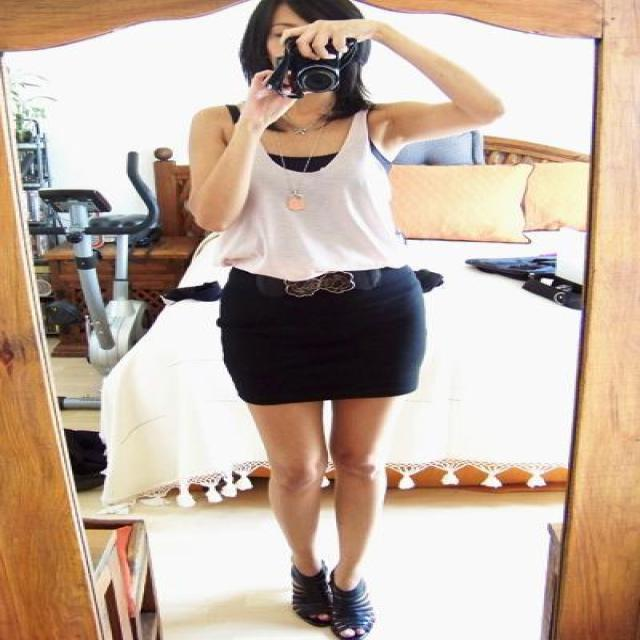shirt: (222, 112, 404, 283)
shoe: (293, 576, 373, 639)
skirt: (216, 270, 442, 408)
